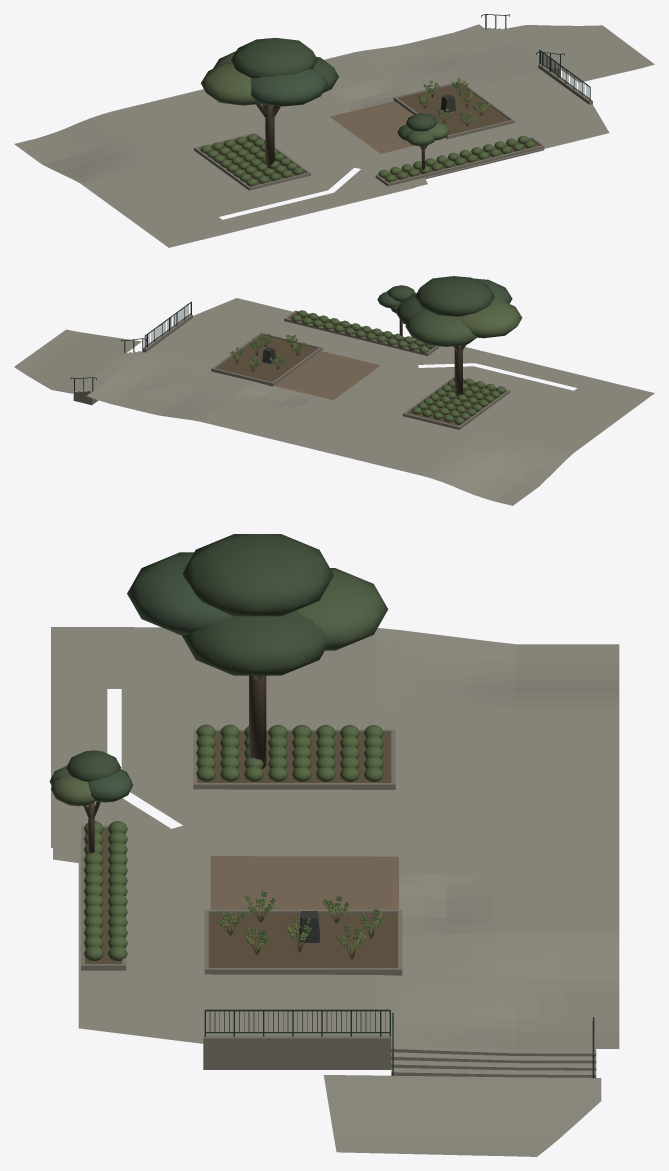
The model's file is site.glb.
3 renders of one model, top to bottom at view 1: azimuth 30°, elevation 25°; view 2: azimuth 150°, elevation 25°; view 3: azimuth 270°, elevation 25°, orthographic. The views are drawn at different scales.
Parts seen in each view (by area): view 1: plc-east-court-paving, plc-east-court-plants, plc-east-court-details; view 2: plc-east-court-paving, plc-east-court-plants, plc-east-court-details; view 3: plc-east-court-paving, plc-east-court-plants, plc-east-court-details.
Boxes of the visible parts, bbox=[...] form: plc-east-court-paving: bbox=[14, 24, 654, 247]; plc-east-court-plants: bbox=[200, 37, 535, 186]; plc-east-court-details: bbox=[194, 14, 592, 190]; plc-east-court-paving: bbox=[14, 298, 654, 505]; plc-east-court-plants: bbox=[230, 276, 522, 424]; plc-east-court-details: bbox=[70, 301, 509, 429]; plc-east-court-paving: bbox=[51, 627, 619, 1156]; plc-east-court-plants: bbox=[49, 534, 388, 960]; plc-east-court-details: bbox=[81, 729, 594, 1078].
Bounding box in the file's own units: 37.07 × 8.73 × 17.61.
